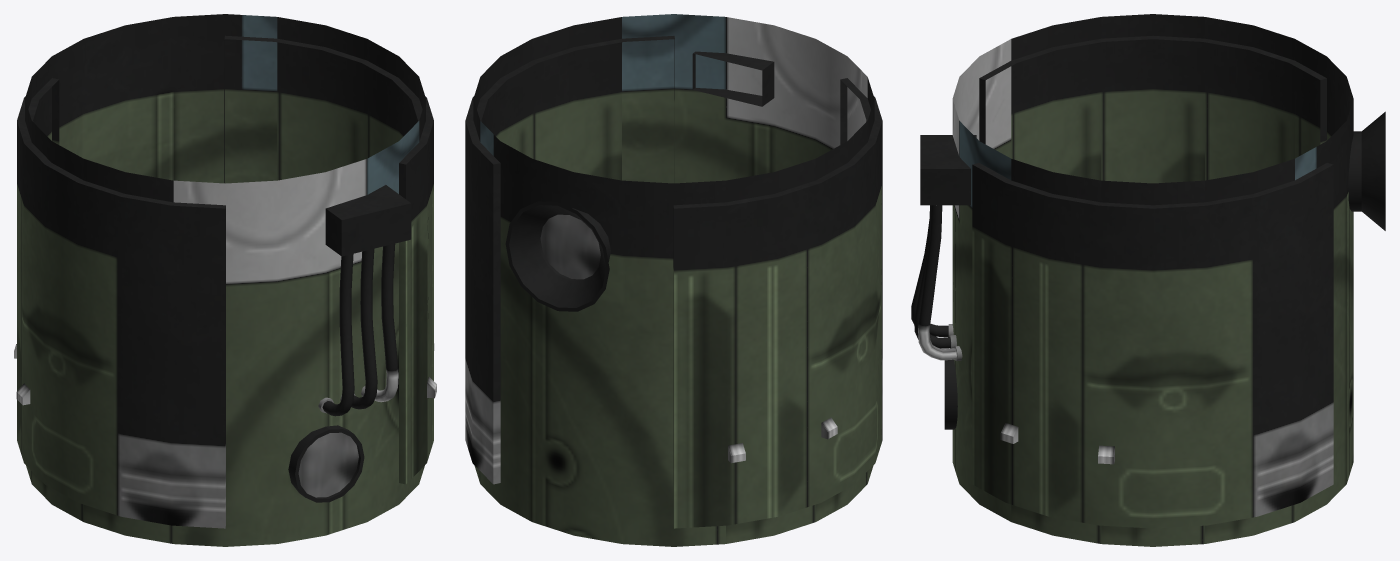
Rendered from orbital_module_gen_0.fbx.
The picture shows the model from 3 angles, left to right: view 1: azimuth 30°, elevation 25°; view 2: azimuth 150°, elevation 25°; view 3: azimuth 270°, elevation 25°; orthographic projection.
Visible parts, largest first — view 1: main, windows; view 2: main, windows; view 3: main.
Part boxes in pixels (x1,y1,x2,y2): main: (14, 14, 436, 546); windows: (298, 432, 358, 497); main: (465, 14, 882, 546); windows: (540, 214, 600, 279); main: (911, 14, 1385, 546).
Bounding box in the file's own units: 1.32 × 1.25 × 1.48.
